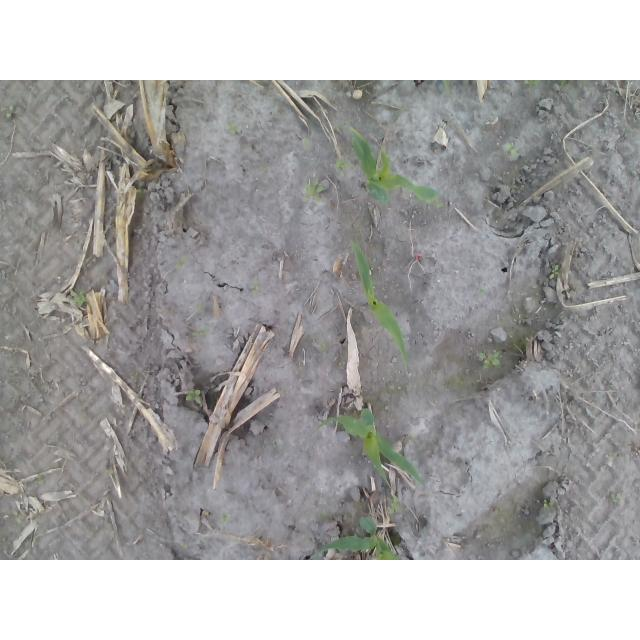Maize: (316, 406, 425, 490), (348, 237, 409, 370), (345, 121, 440, 205), (307, 516, 403, 560), (417, 80, 459, 105)
Weeds: (302, 178, 325, 203), (478, 351, 501, 369), (333, 158, 351, 178), (386, 496, 404, 514), (71, 290, 88, 306), (185, 389, 203, 404), (226, 121, 240, 136), (503, 143, 517, 158), (251, 278, 261, 297), (192, 327, 209, 337), (548, 265, 560, 279), (33, 474, 45, 487), (610, 491, 622, 503), (12, 510, 22, 524), (177, 256, 188, 268), (407, 432, 418, 444), (219, 512, 231, 523), (5, 106, 15, 119), (429, 199, 443, 208), (193, 301, 204, 312), (543, 499, 554, 510), (129, 369, 140, 379), (523, 80, 541, 86), (317, 341, 327, 351), (136, 188, 152, 194), (332, 123, 340, 131), (559, 80, 568, 86), (259, 167, 266, 174), (303, 139, 309, 146)
